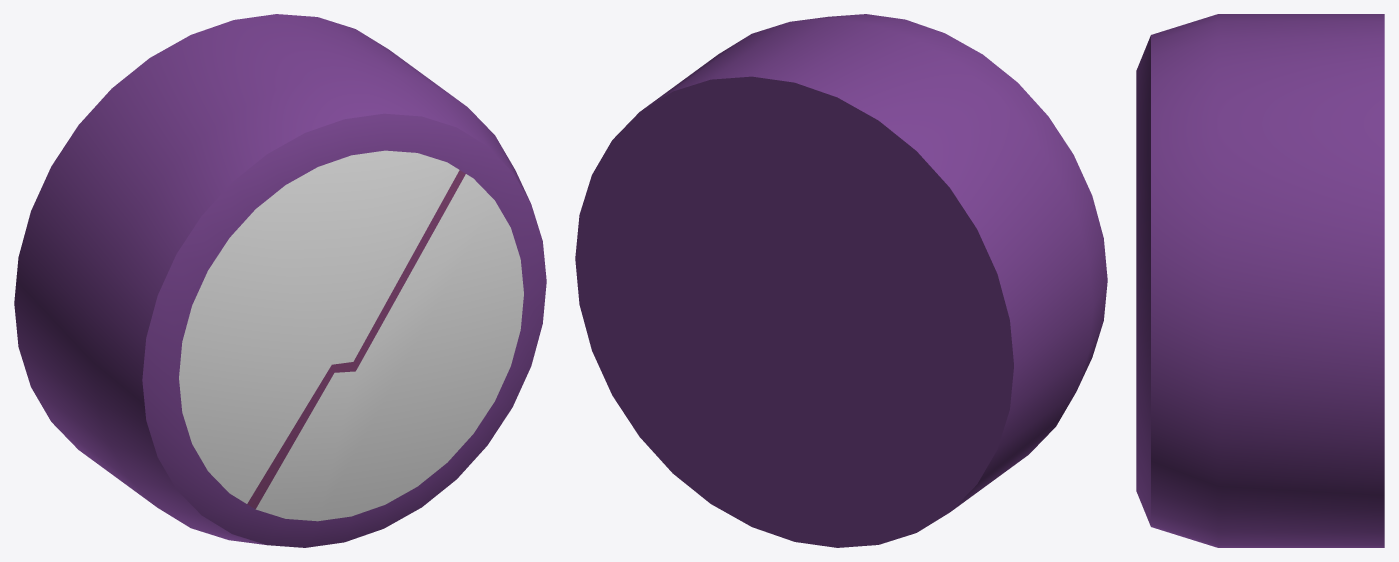
The model's file is beam-cap.glb.
3 renders of one model, left to right at view 1: azimuth 30°, elevation 25°; view 2: azimuth 150°, elevation 25°; view 3: azimuth 270°, elevation 25°, orthographic. The views are drawn at different scales.
Parts seen in each view (by area): view 1: beam-2-cap; view 2: beam-2-cap; view 3: beam-2-cap.
Boxes of the visible parts, x1,y1,x2,y2 form: beam-2-cap: (14,14,546,547); beam-2-cap: (575,14,1107,547); beam-2-cap: (1136,14,1384,547).
Bounding box in the file's own units: 2.7 × 2.7 × 1.26.
